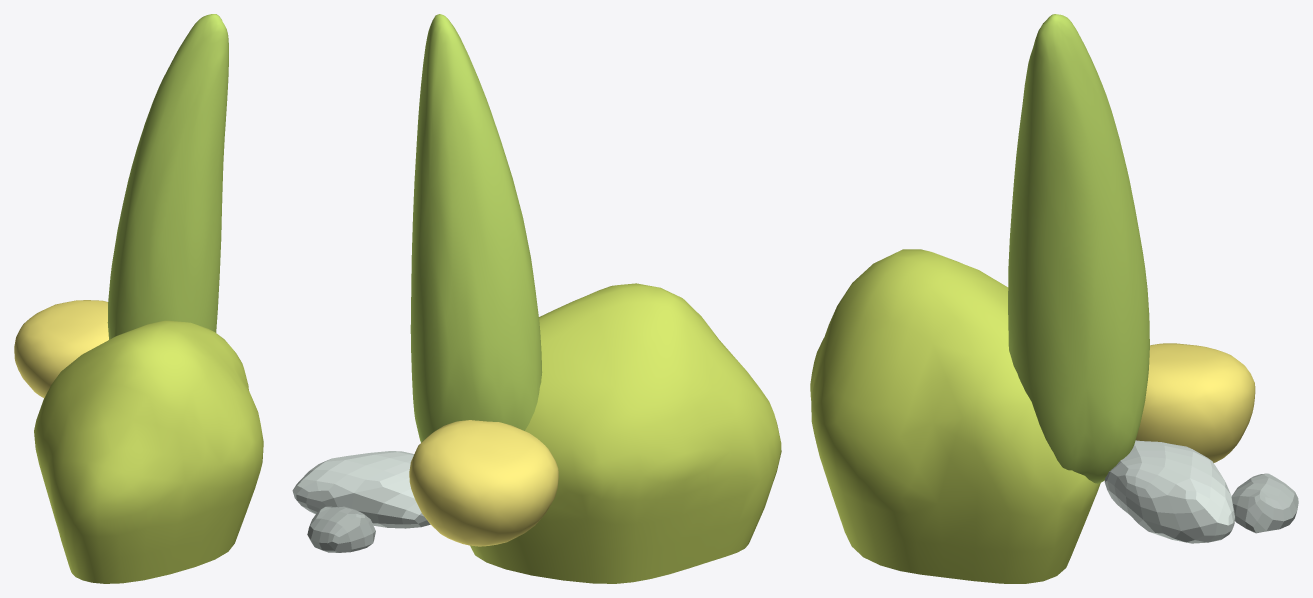
Rendered from BushPack_D.fbx.
3 views of the same model, side by side, from view 1: azimuth 30°, elevation 25°; view 2: azimuth 150°, elevation 25°; view 3: azimuth 270°, elevation 25° (orthographic). The views are drawn at different scales.
Visible parts, largest first — view 1: BushPack_C; view 2: BushPack_C; view 3: BushPack_C.
Boxes of the visible parts, bbox=[...] form: BushPack_C: bbox=[14, 14, 263, 583]; BushPack_C: bbox=[292, 14, 781, 583]; BushPack_C: bbox=[810, 14, 1298, 583].
Bounding box in the file's own units: 297 × 473 × 360.
